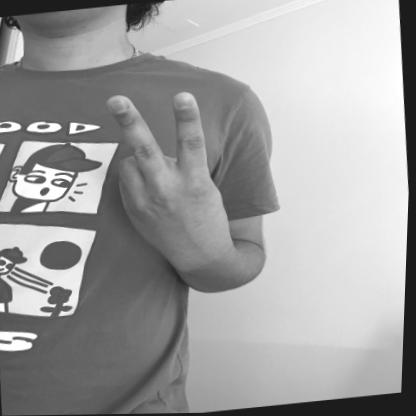V: (96, 76, 244, 278)
